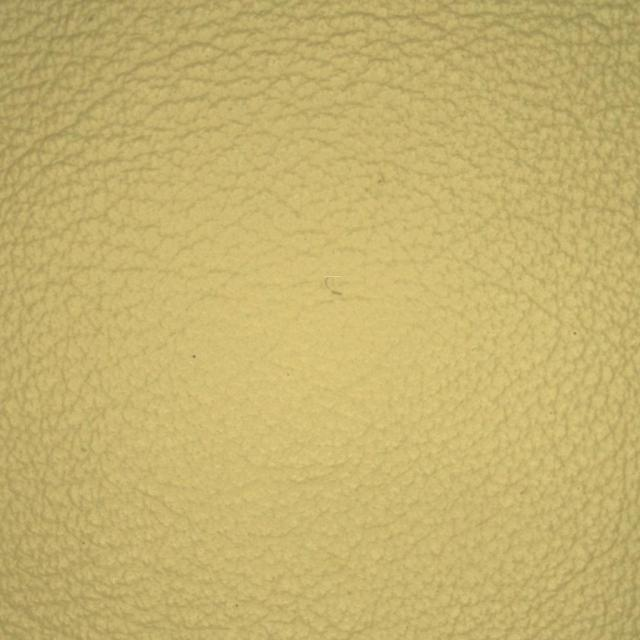Scratch: (231, 231, 440, 340)
